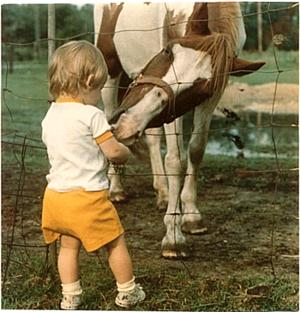person: (40, 43, 148, 309)
